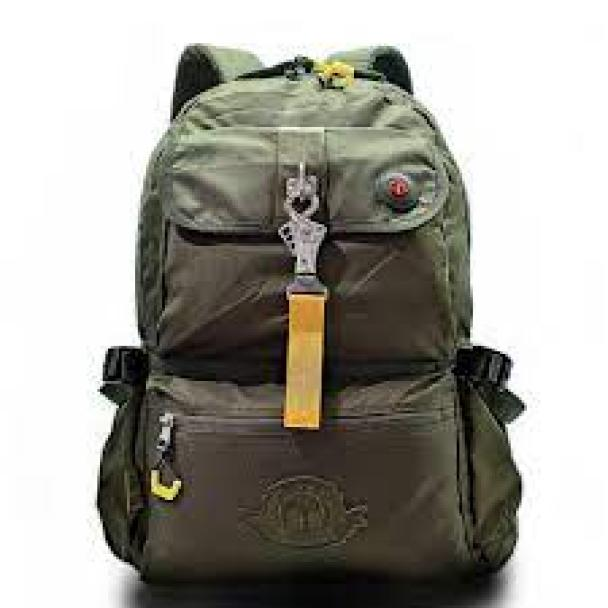Tas: (97, 68, 516, 600)
